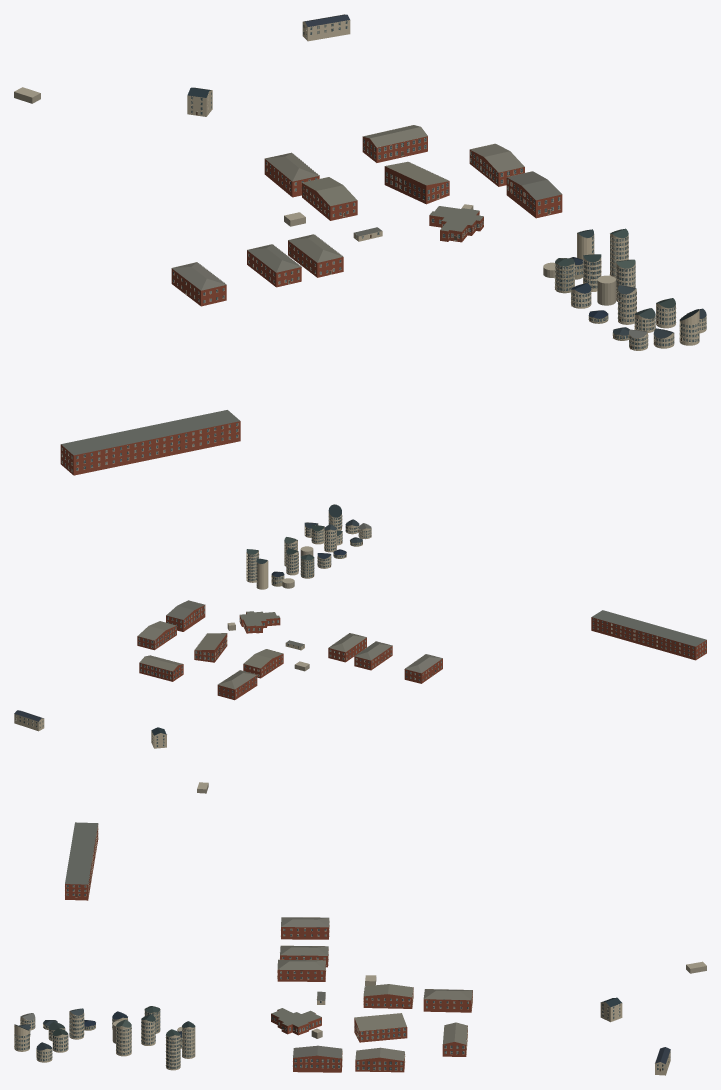
3 views of the same model, one above another, from view 1: azimuth 30°, elevation 25°; view 2: azimuth 150°, elevation 25°; view 3: azimuth 270°, elevation 25° (orthographic). The views are drawn at different scales.
Visible parts, largest first — view 1: -6_0_271948020_39, -6_0_271948930_43; view 2: -6_0_271948020_39, -6_0_271948930_43; view 3: -6_0_271948020_39, -6_0_271948930_43.
Part boxes in pixels (x1,y1,x2,y2): -6_0_271948020_39: (14, 14, 706, 475); -6_0_271948930_43: (187, 20, 706, 350); -6_0_271948020_39: (14, 504, 706, 793); -6_0_271948930_43: (14, 511, 371, 748); -6_0_271948020_39: (14, 822, 706, 1072); -6_0_271948930_43: (14, 993, 670, 1075).
Size of the model in its own units: 436 by 33.71 by 514.
